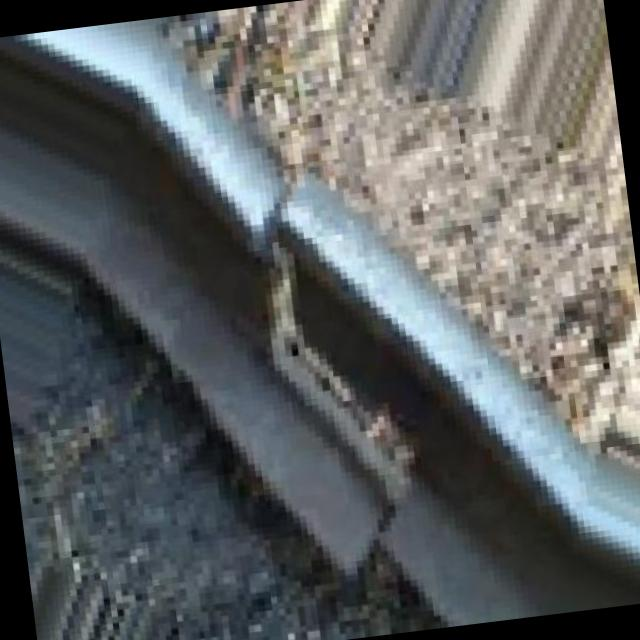defective: (123, 23, 572, 640)
